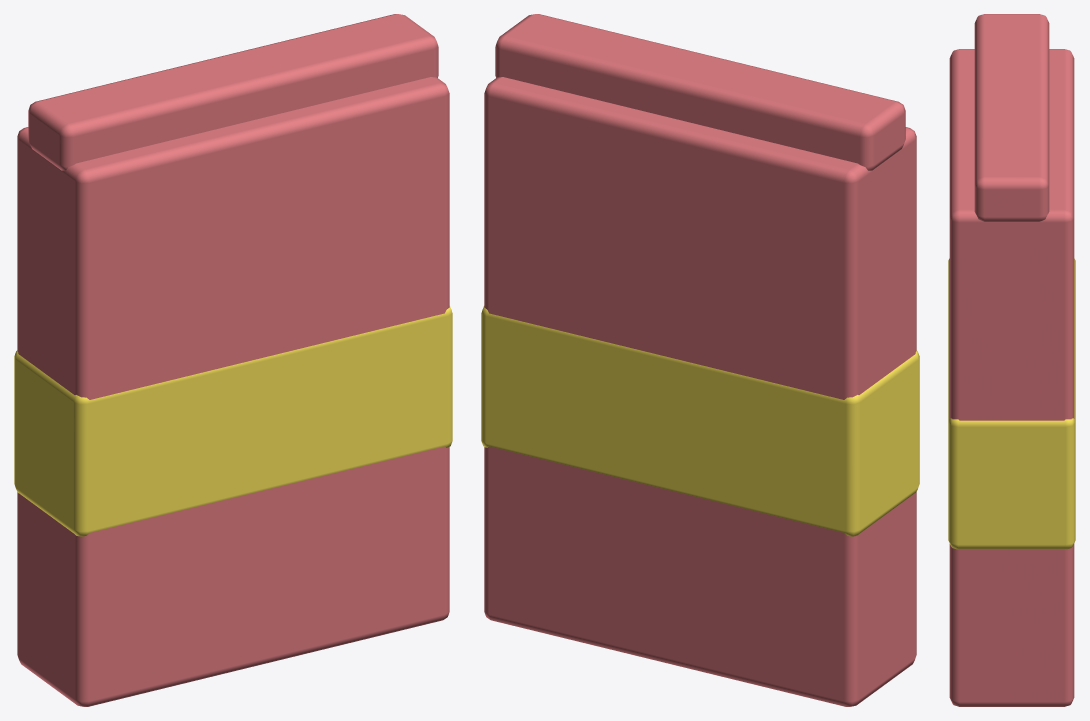
The model's file is SM_SnackBag.fbx.
3 renders of one model, left to right at view 1: azimuth 30°, elevation 25°; view 2: azimuth 150°, elevation 25°; view 3: azimuth 270°, elevation 25°, orthographic. The views are drawn at different scales.
Visible parts, largest first — view 1: SM_SnackBag; view 2: SM_SnackBag; view 3: SM_SnackBag.
Part boxes in pixels (x1=…): SM_SnackBag: x1=14, y1=14, x2=452, y2=706; SM_SnackBag: x1=481, y1=14, x2=919, y2=706; SM_SnackBag: x1=948, y1=14, x2=1075, y2=706.
Bounding box in the file's own units: 0.162 × 0.235 × 0.051.
